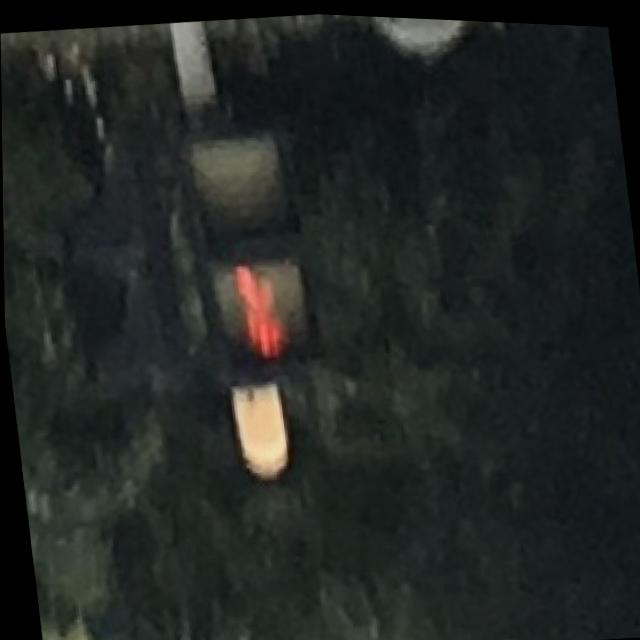red_light: (212, 250, 316, 370)
